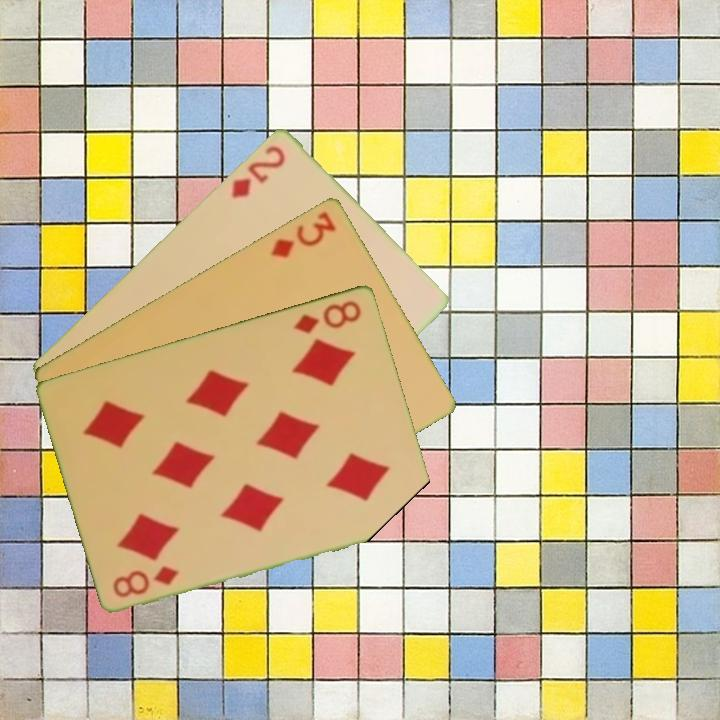2d: (228, 141, 288, 201)
3d: (267, 206, 340, 261)
8d: (290, 296, 365, 336), (109, 561, 182, 600)
